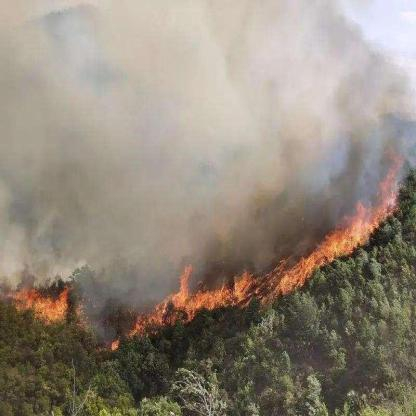fire: (97, 225, 282, 363), (280, 122, 403, 296), (21, 242, 93, 350)
smoke: (3, 2, 346, 221)
